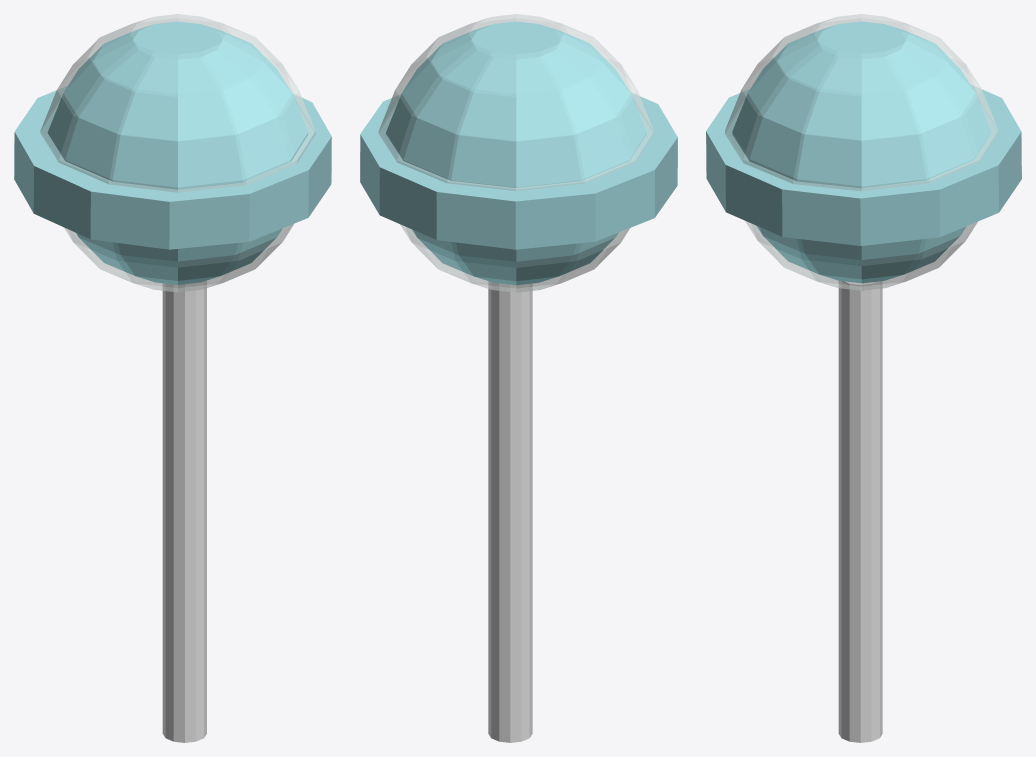
The model's file is BlueLollipop-v1.glb.
3 renders of one model, left to right at view 1: azimuth 30°, elevation 25°; view 2: azimuth 150°, elevation 25°; view 3: azimuth 270°, elevation 25°, orthographic.
Parts seen in each view (by area): view 1: Node-Mesh_1, Node-Mesh, Node-Mesh_2; view 2: Node-Mesh_1, Node-Mesh, Node-Mesh_2; view 3: Node-Mesh_1, Node-Mesh, Node-Mesh_2.
Boxes of the visible parts, x1,y1,x2,y2 form: Node-Mesh_1: [14, 14, 331, 292]; Node-Mesh: [14, 21, 331, 284]; Node-Mesh_2: [162, 280, 206, 742]; Node-Mesh_1: [360, 14, 677, 292]; Node-Mesh: [360, 21, 677, 285]; Node-Mesh_2: [488, 281, 532, 742]; Node-Mesh_1: [706, 14, 1021, 290]; Node-Mesh: [706, 21, 1021, 283]; Node-Mesh_2: [838, 281, 882, 742].
Bounding box in the file's own units: 0.06 × 0.1477 × 0.0601.
